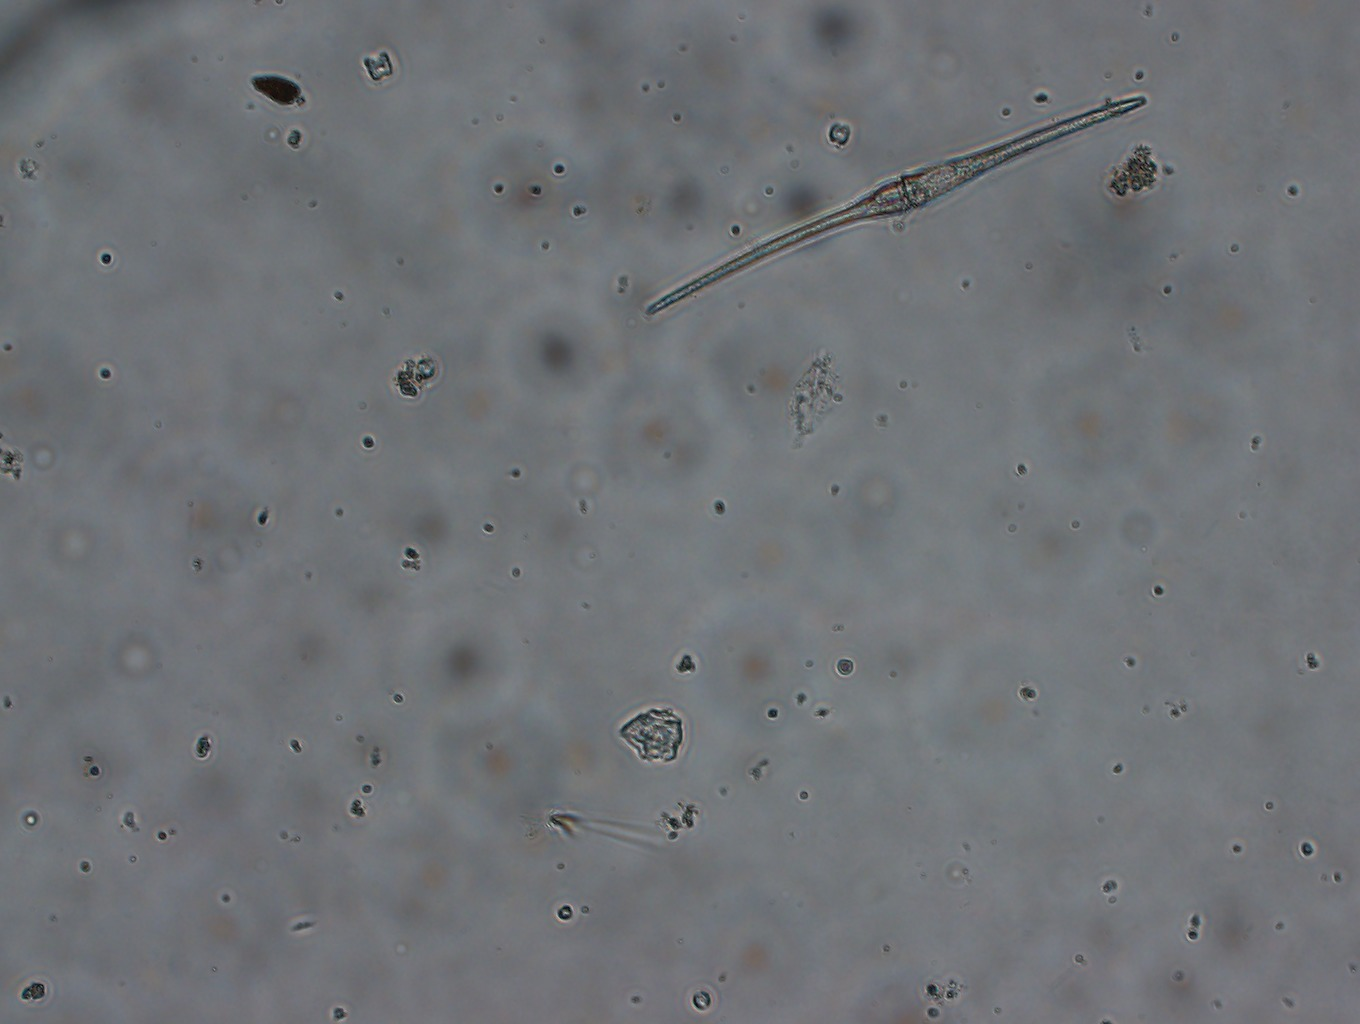ceratium fusus: (633, 83, 1150, 324)
